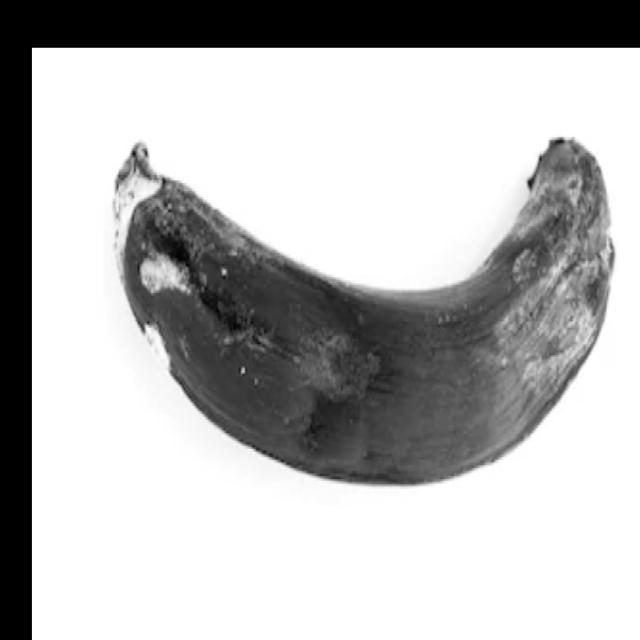Rotten: (107, 104, 621, 494)
